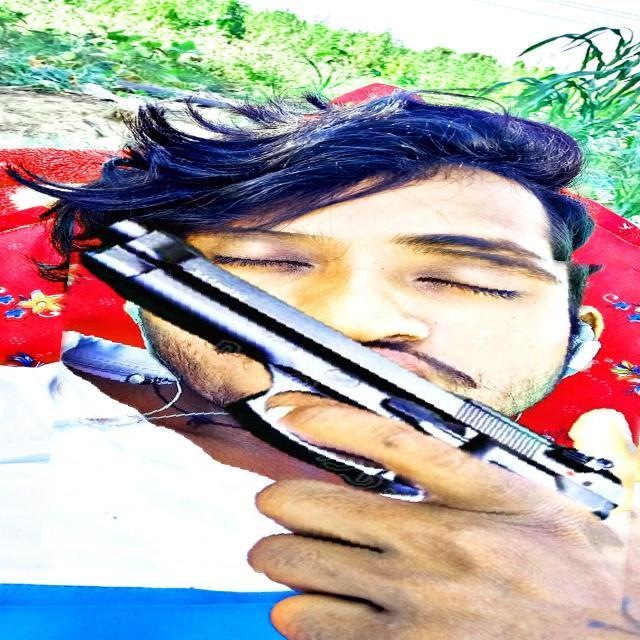handgun: (47, 225, 640, 596)
